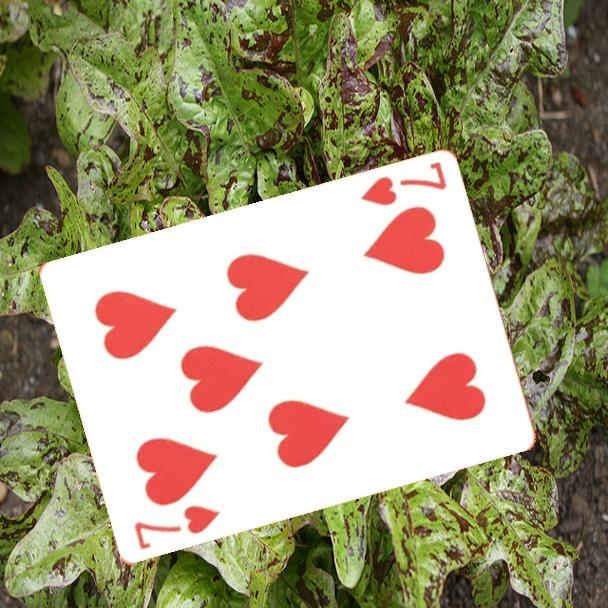h07: (356, 158, 450, 210), (130, 502, 223, 553)
